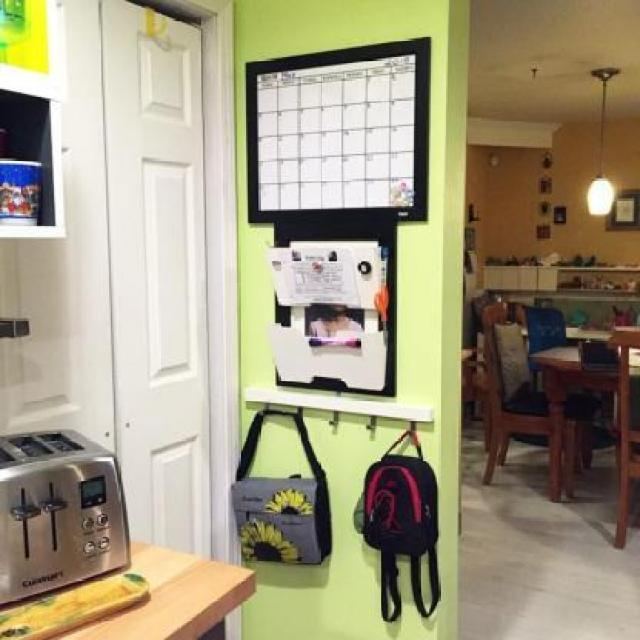backpack: (357, 440, 443, 626), (226, 464, 339, 574)
